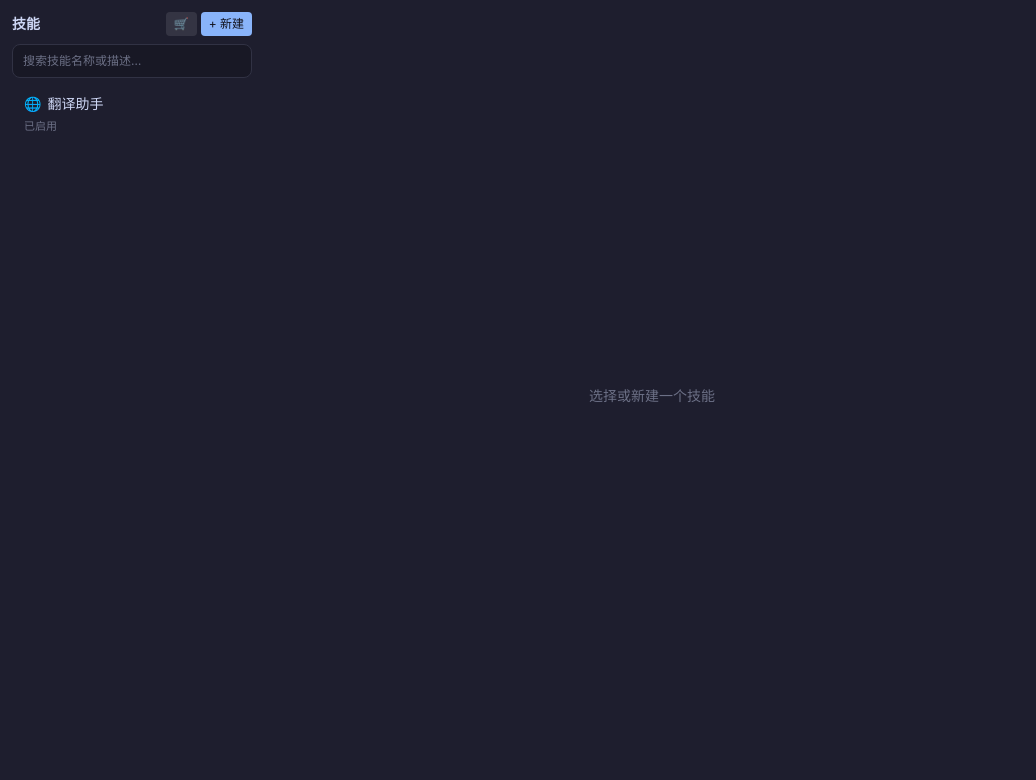
常驻开关 › 保存失败 ⇒ 徽标还停在「常驻中」，并说出失败（不做乐观更新，界面不替主进程抢先承认）
Click the text "翻译助手".
click(76, 104)  # box [48, 94, 104, 114]
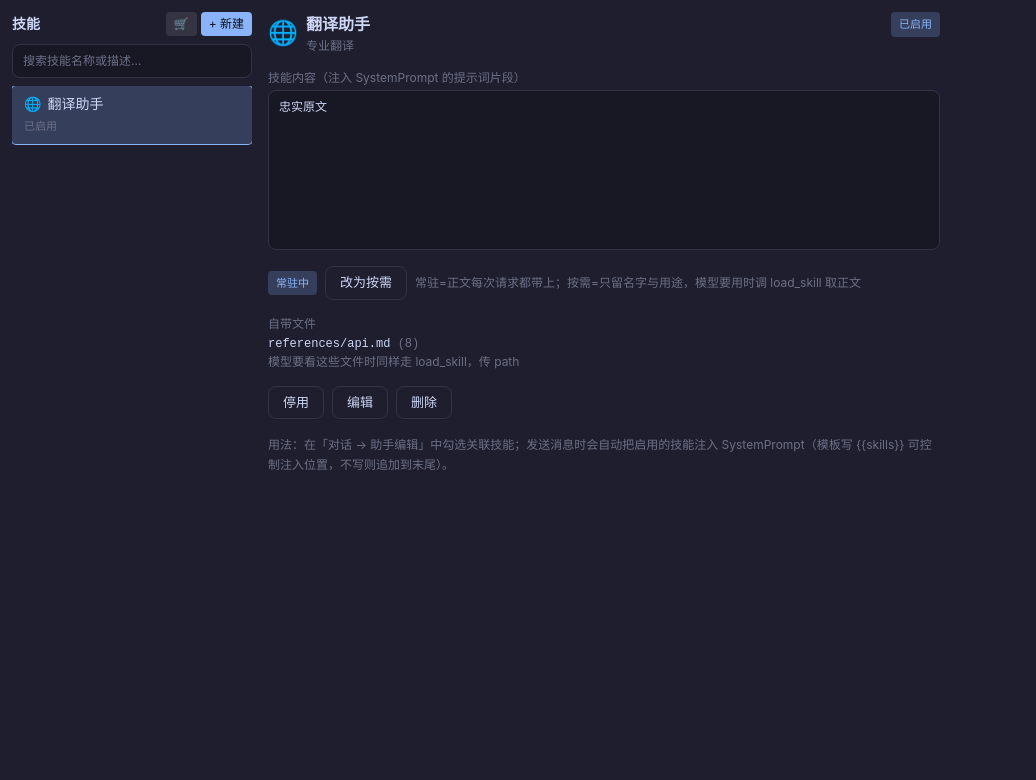
Check: the text "常驻中" is shown, box [268, 270, 317, 295]
Click the button "改为按需".
click(366, 283)  # box [325, 266, 407, 300]
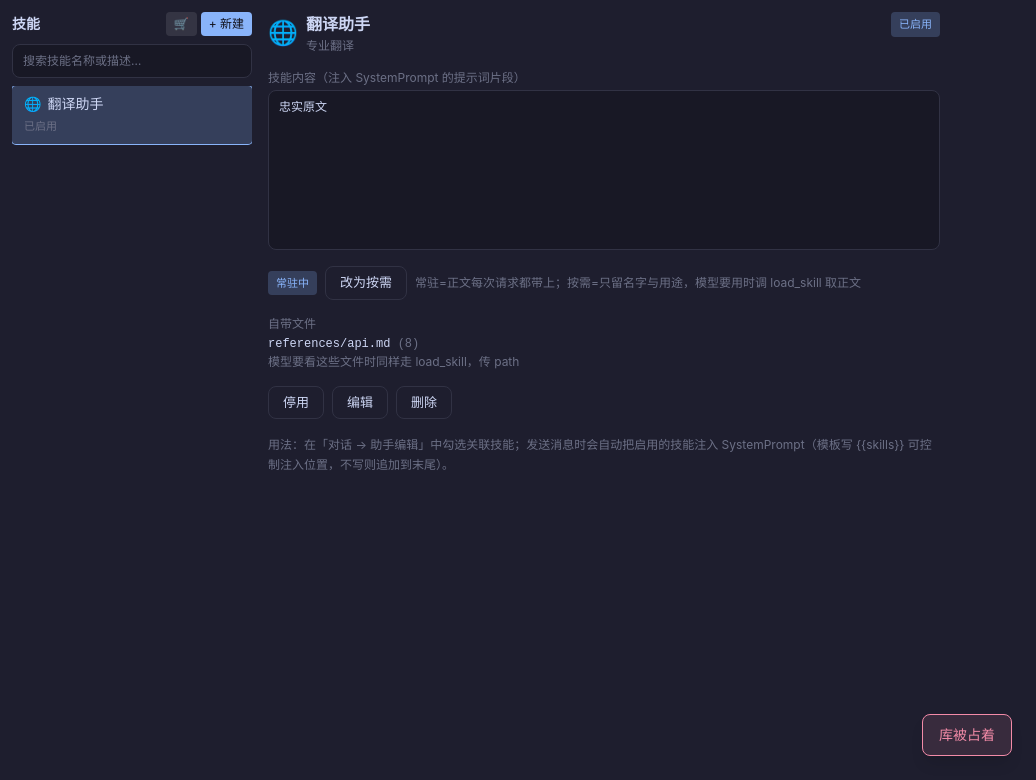
Check: the text with test id "skill-resident-badge" reads "常驻中", box [276, 276, 309, 290]
Check: the text "库被占着" is shown, box [922, 714, 1012, 756]
